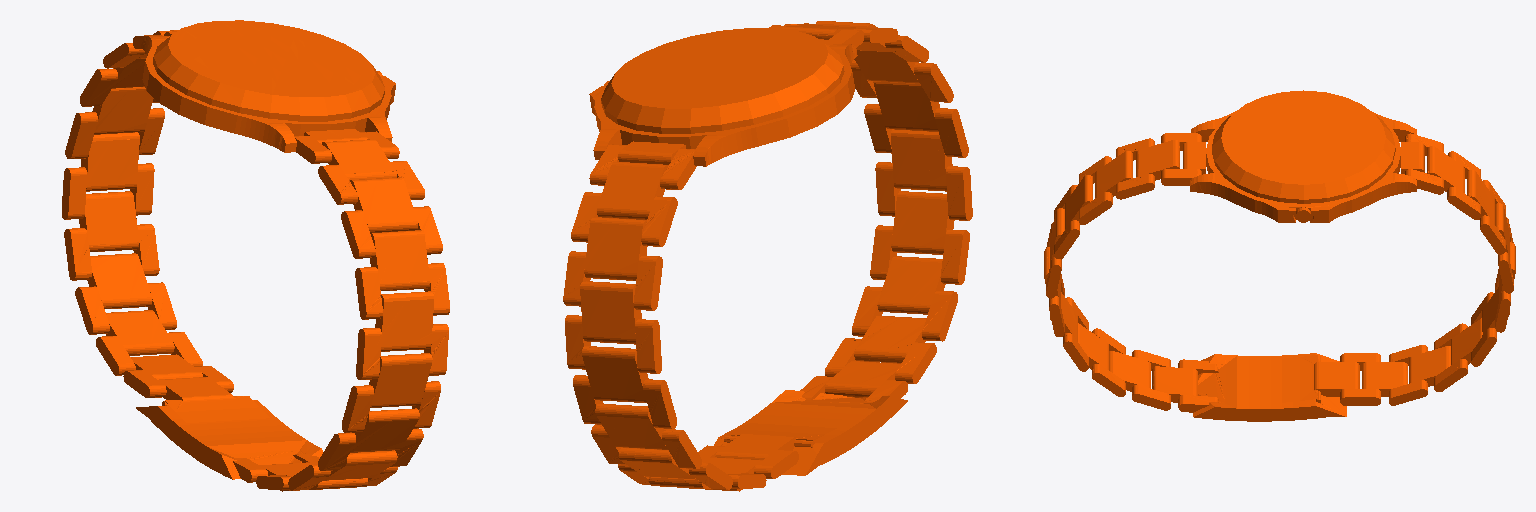
URDF robot description (2024-09-16_6_Watch_9f):
<?xml version="1.0" ?>
<robot name="2024-09-16_6_Watch_9f">
   <material name="obj_color">
      <color rgba="1.0 0.423529411765 0.0392156862745 1.0"/>
   </material>
   <link name="top">
      <inertial>
         <origin rpy="-0.0006838737397612496 -0.00040730219642575 -0.0003489581830533419" xyz="0.03174690482518825 0.09283511262513687 0.08108462162617776"/>
         <mass value="-0.1784354450107371"/>
         <inertia ixx="-0.0006743602371051901" ixy="5.170925331725573e-06" ixz="5.321497840000052e-05" iyy="-0.0003795650509516714" iyz="2.867421578480162e-05" izz="-0.00038620883118348"/>
      </inertial>
      <visual>
         <origin rpy="0 0 0" xyz="0 0 0"/>
         <geometry>
            <mesh filename="top_watertight_tiny.stl" scale="1 1 1"/>
         </geometry>
         <material name="obj_color"/>
      </visual>
      <collision>
         <origin rpy="0 0 0" xyz="0 0 0"/>
         <geometry>
            <mesh filename="top_watertight_tiny.obj" scale="1 1 1"/>
         </geometry>
      </collision>
   </link>
   <link name="bottom">
      <inertial>
         <origin rpy="1.633333333199431e-08 1.633333333199431e-08 1.633333333362855e-08" xyz="0.3464080000000008 0.3464080000000008 0.3464080000000008"/>
         <mass value="0.0009800000000000017"/>
         <inertia ixx="1.633333333253906e-08" ixy="5.447480642029219e-19" ixz="5.447480642029219e-19" iyy="1.633333333253906e-08" iyz="5.447480642029219e-19" izz="1.633333333253906e-08"/>
      </inertial>
      <visual>
         <origin rpy="0 0 0" xyz="0 0 0"/>
         <geometry>
            <mesh filename="bottom_watertight_tiny.stl" scale="1 1 1"/>
         </geometry>
         <material name="obj_color"/>
      </visual>
   </link>
   <joint name="rotation" type="revolute">
      <origin xyz="0 0 0"/>
      <axis xyz="0 0 -1"/>
      <parent link="bottom"/>
      <child link="top"/>
      <dynamics damping="1.0" friction="1.0"/>
      <limit effort="0.1" velocity="0.1" lower="0" upper="0.001"/>
   </joint>
</robot>

--- Facts derived from the render (not from the file) ---
Views: 3 orthographic renders of the robot side by side, from view 1: azimuth 30°, elevation 25°; view 2: azimuth 150°, elevation 25°; view 3: azimuth 270°, elevation 25°.
Robot: 2024-09-16_6_Watch_9f — 2 links, 1 joints (1 revolute); root link bottom; default pose: every joint at zero.
Visible links, largest first — view 1: top; view 2: top; view 3: top.
Link boxes in pixels (left/top/right/bottom): top: left=62, top=20, right=449, bottom=491; top: left=563, top=21, right=972, bottom=491; top: left=1044, top=90, right=1515, bottom=421.
Bounding box of the posed robot: 0.0756 × 0.1778 × 0.1252 m (x, y, z).
Meshes: 2 distinct files referenced, 1 mesh visuals loaded (1 binary STL); not drawn: 1 (reference not matched to a file when rendering).
